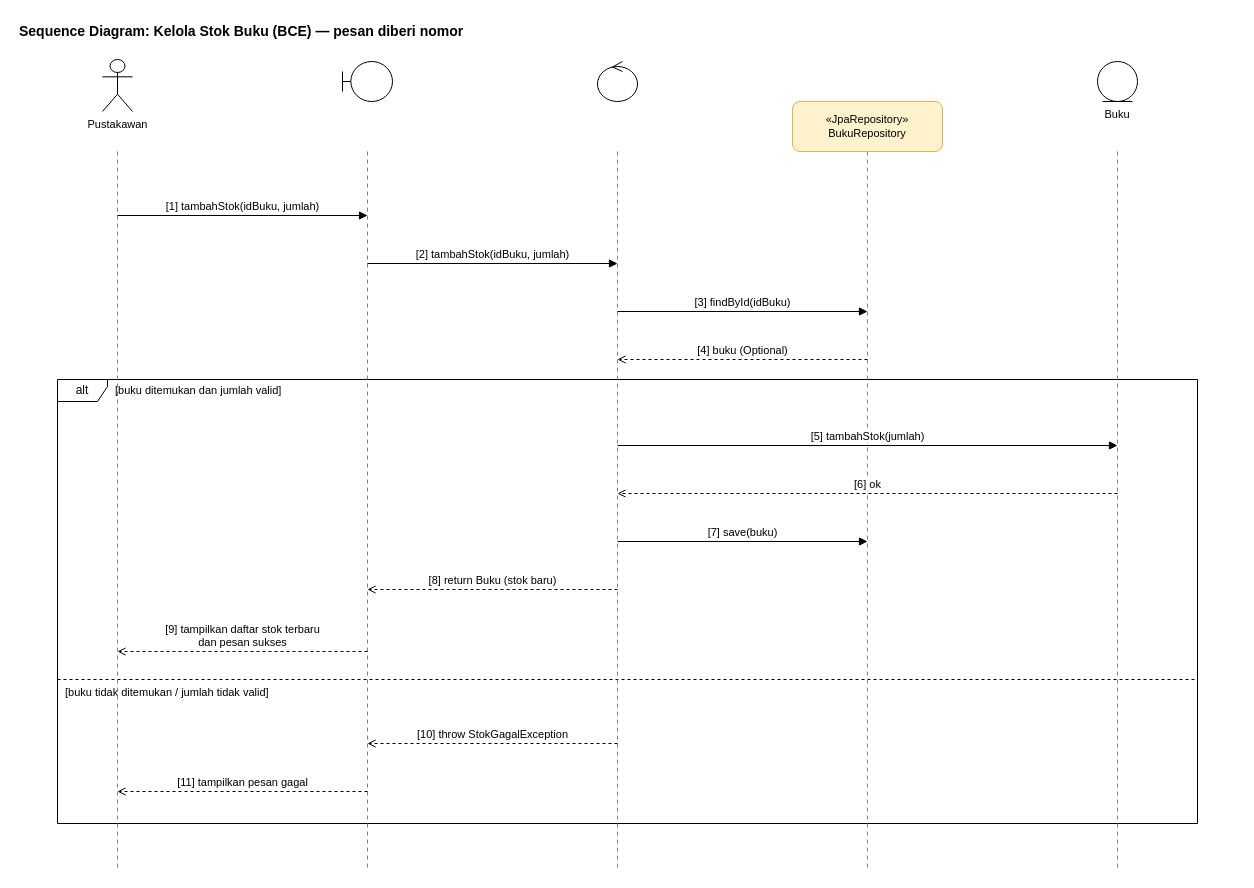
The diagram is 1254 pixels wide and 888 high, and some of its shapes have lost their labels. The centre of each missing label's shape, as x and y in pixels:
"HalamanStok" belongs at (x=367, y=81).
"«control» StokService" belongs at (x=617, y=81).
